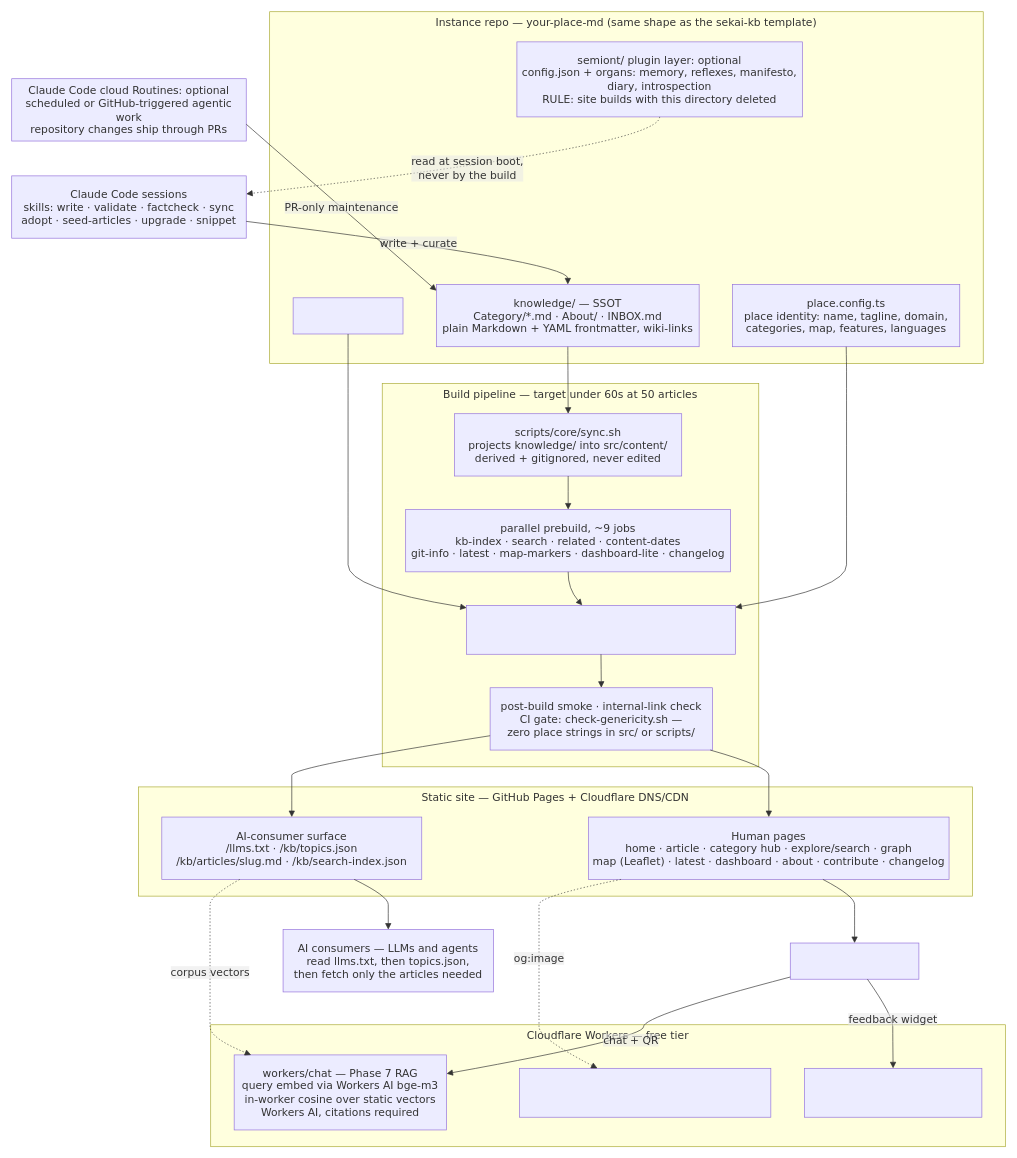
Image size: 1017x1158. Some labels were removed from this diagram. The centre of each missing label's shape, as x and y in pixels:
astro build components + templates read place.config only: (600,629)
public/media/: (347,315)
Readers — humans: (854,960)
workers/feedback — Phase 6 intake Worker + D1: (893,1092)
workers/og — Phase 7 on-demand OG images, Satori + resvg-wasm: (645,1092)
